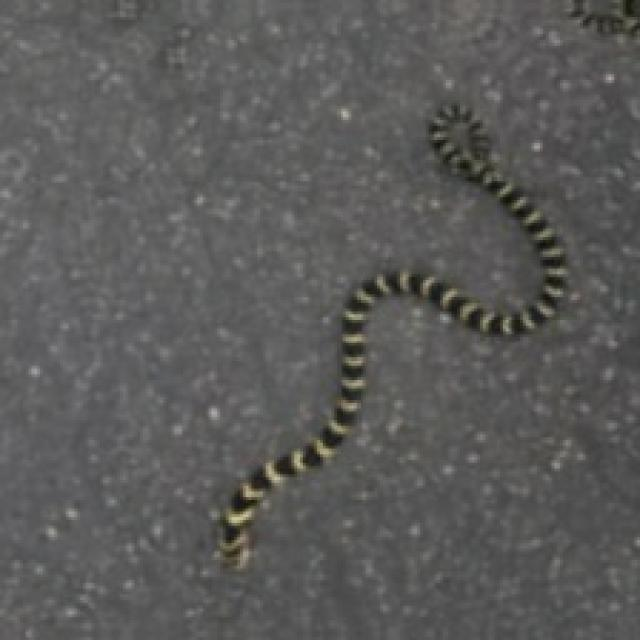king cobra: (217, 103, 566, 569)
